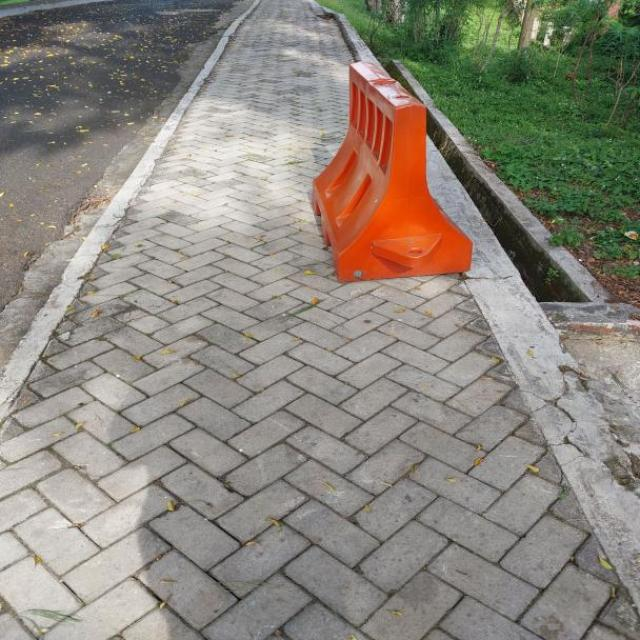barrier ahead at: (300, 52, 482, 296)
